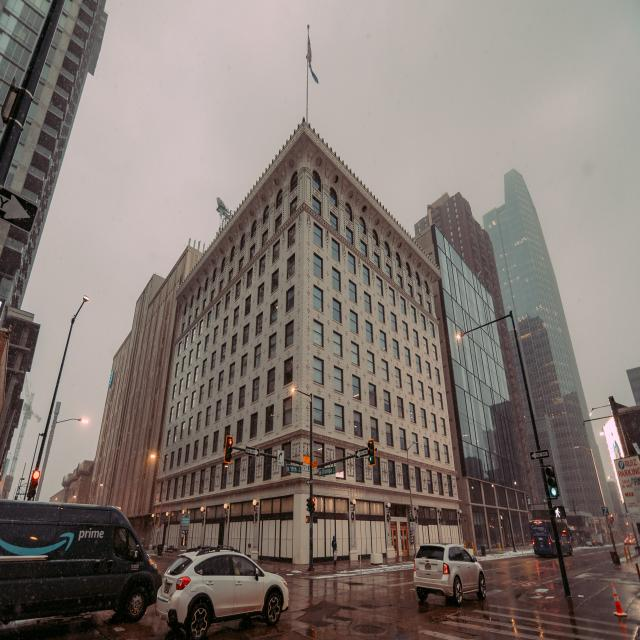Street Light: (454, 311, 573, 596), (28, 294, 90, 530), (36, 417, 90, 520), (291, 386, 317, 570), (150, 454, 164, 557)
